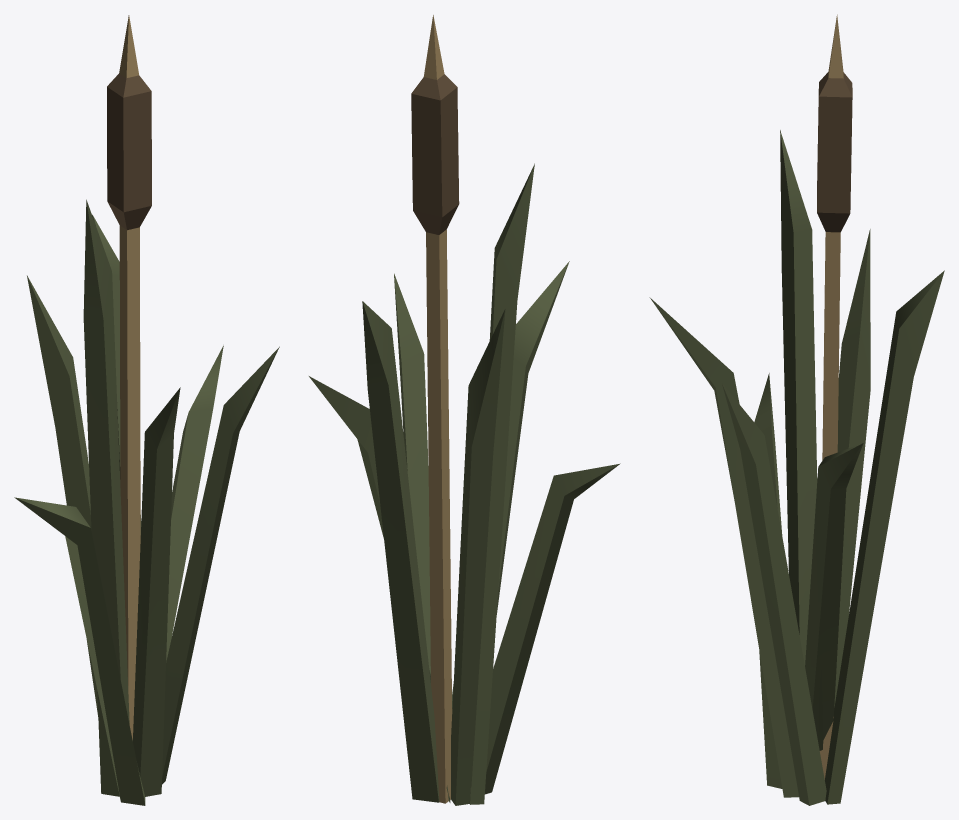
File: env_reeds.gltf
The picture shows the model from 3 angles, left to right: view 1: azimuth 30°, elevation 25°; view 2: azimuth 150°, elevation 25°; view 3: azimuth 270°, elevation 25°; orthographic projection. The views are drawn at different scales.
Visible parts, largest first — view 1: env_reeds; view 2: env_reeds; view 3: env_reeds.
Part boxes in pixels (box(x1,y1,x2,y2)): env_reeds: box(14, 15, 279, 805); env_reeds: box(309, 15, 620, 805); env_reeds: box(649, 14, 944, 805).
Size of the model in its own units: 0.7693 by 2.19 by 0.7516.
Materials: 1 (1 with a texture image).
